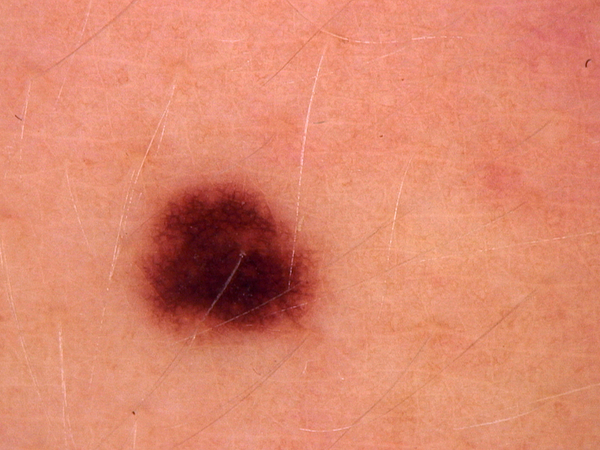Detected Lesion: (128, 177, 326, 344)
